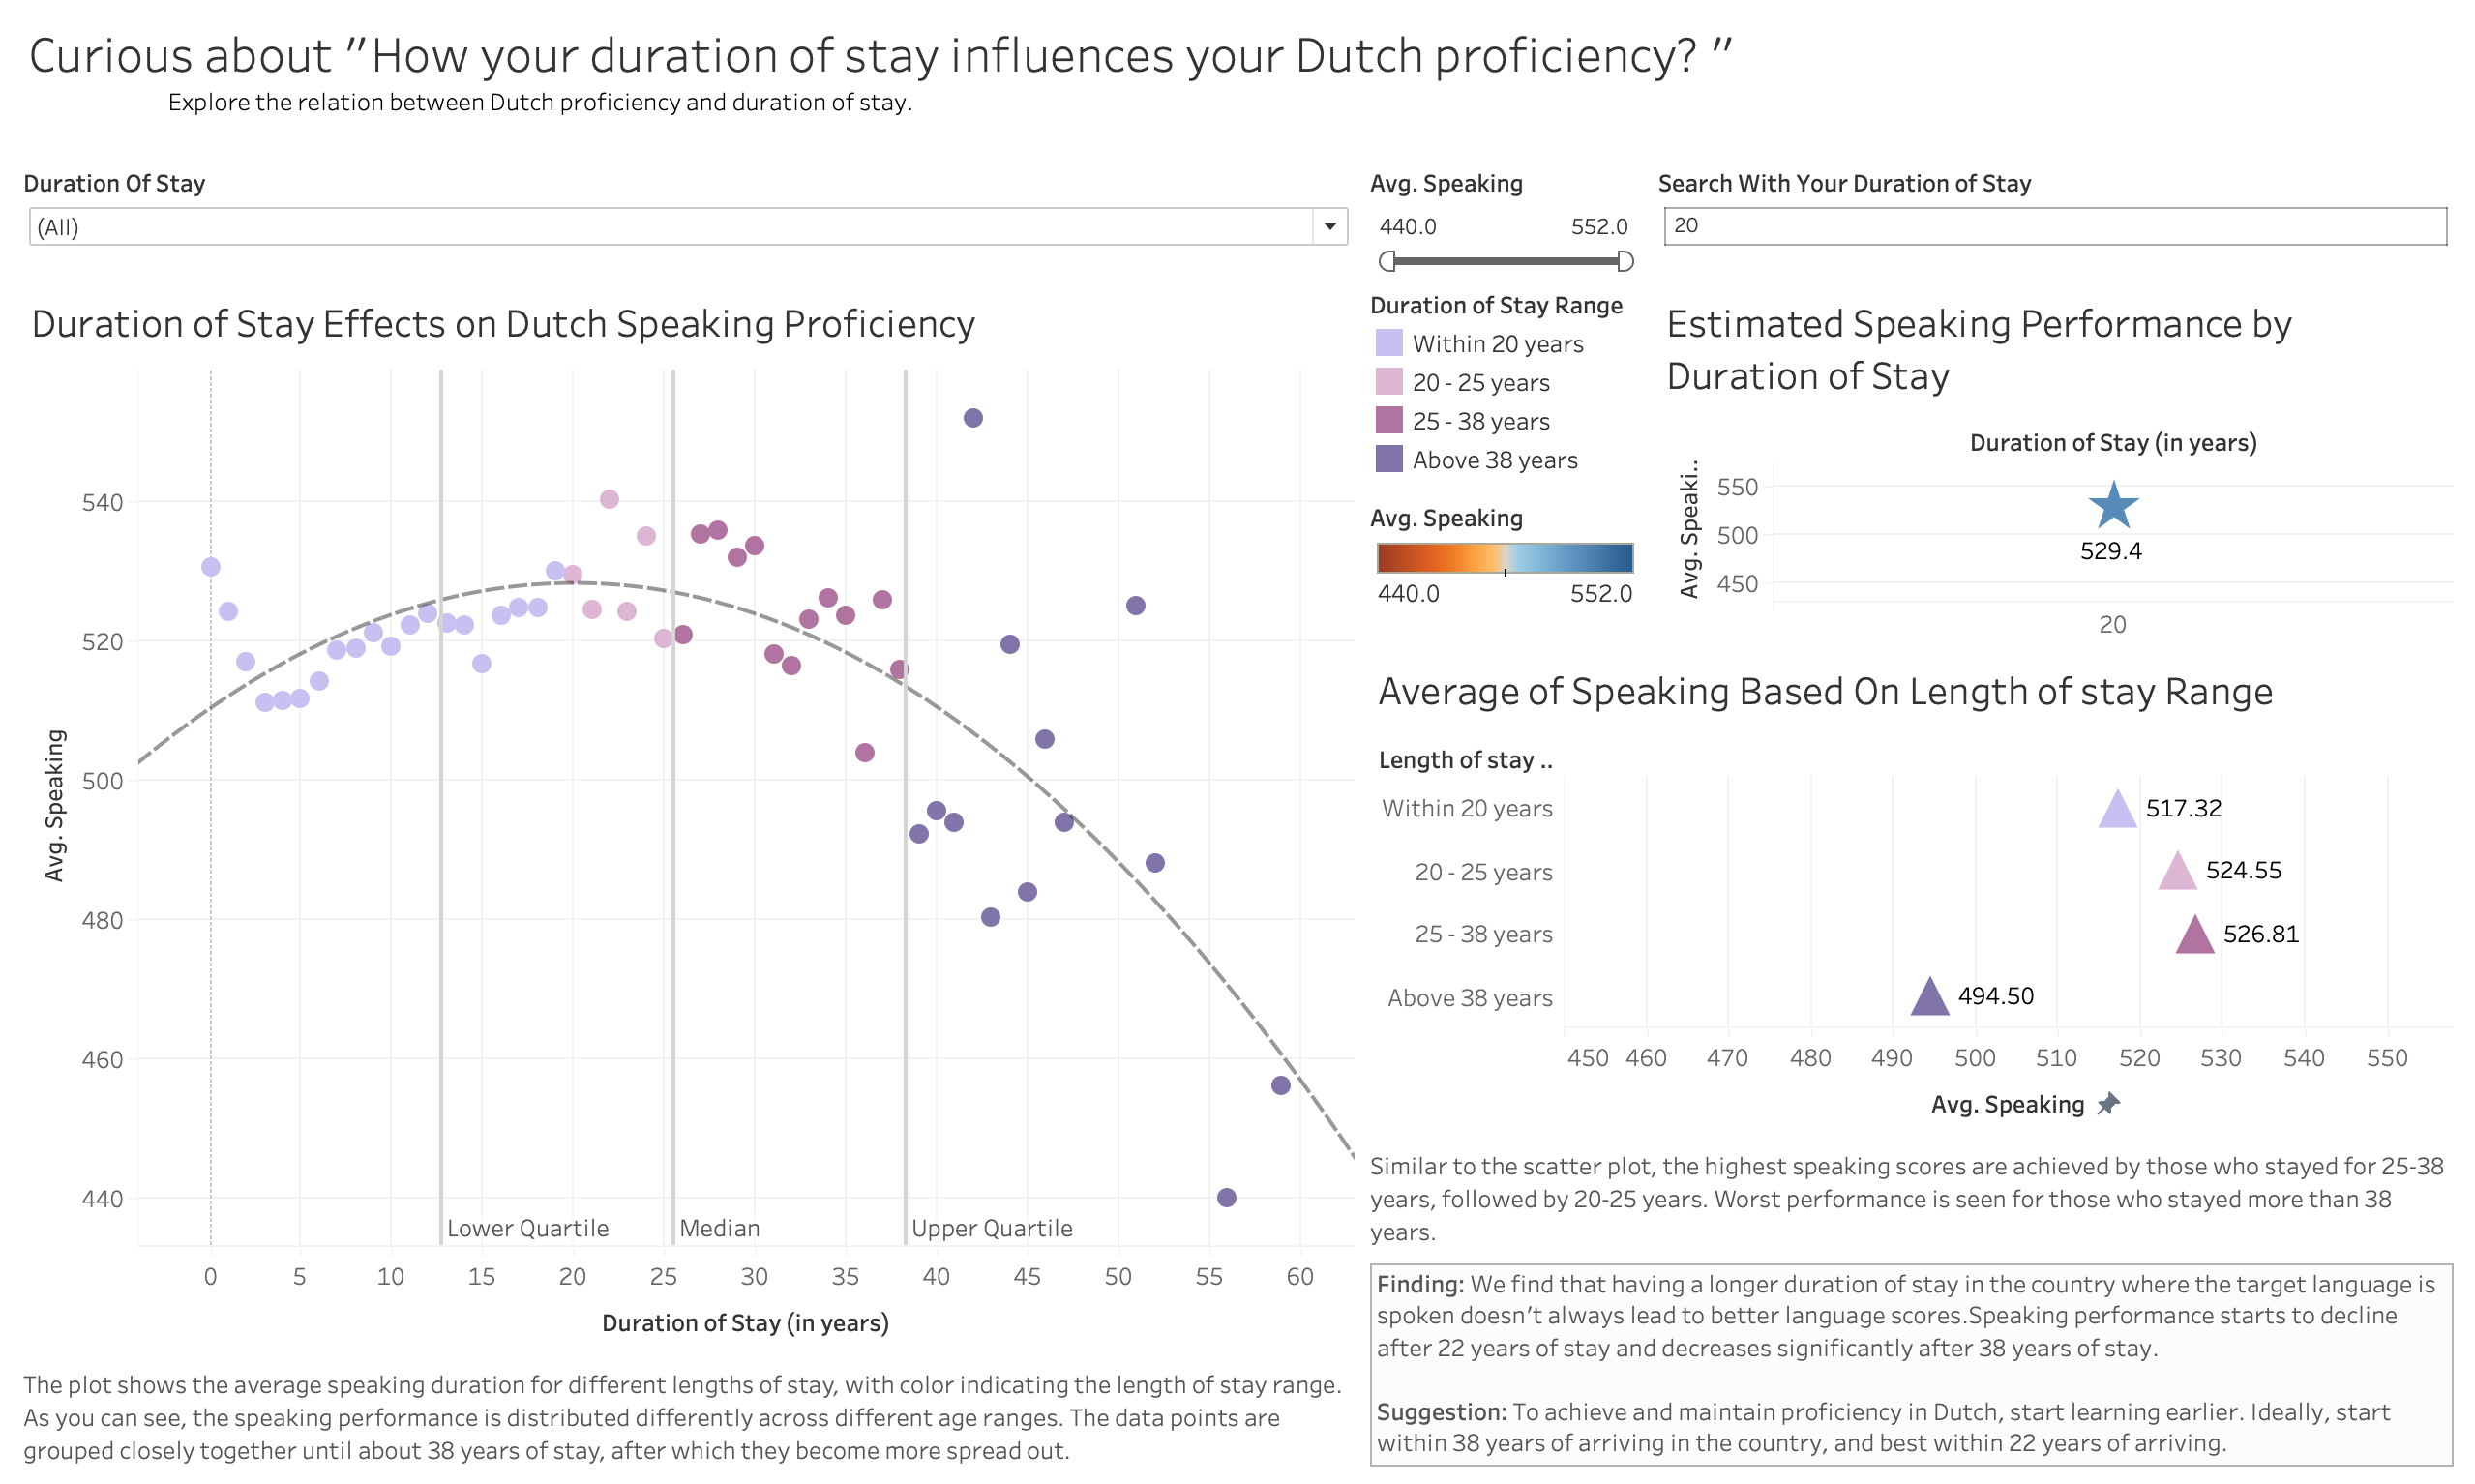

Layout of this report page (visuals, bound fields, positions):
{"tool":"tableau","page":{"name":"Dashboard 5","canvas":[1000,1000],"units":"permille","ordinal":4},"visuals":[{"type":"text","box":[6.2,10.4,987.5,95.8]},{"type":"parameter","param":"[Parameters].[Age-Range1 (copy)_2114158585074184193 3]","box":[6.2,106.2,544,81.8]},{"type":"filter","title":"duration","param":"[federated.1vhxzma1vfckmp1bi80181q941ae (copy 5)].[avg:Speaking:qk]","box":[550.3,106.2,116.3,81.8]},{"type":"parameter","param":"[Parameters].[Parameter 1 1 1]","box":[666.6,106.2,327.2,81.8]},{"type":"worksheet","title":"duration","mark":"Circle","rows":["Speaking"],"cols":["LoR"],"box":[6.2,188,544,801.6]},{"type":"legend","title":"duration","param":"[federated.1vhxzma1vfckmp1bi80181q941ae (copy 5)].[none:Calculation_475693074339","box":[550.3,188,116.3,143.1]},{"type":"worksheet","title":"LoR Search","mark":"Shape","rows":["Speaking"],"cols":["LoR"],"box":[666.6,188,327.2,247.5]},{"type":"legend","title":"LoR Search","param":"[federated.0nq162a0azgo201e57eep1p0yfa0 (copy 7)].[avg:Speaking:qk]","box":[550.3,331.1,116.3,104.4]},{"type":"worksheet","title":"avg duration","mark":"Shape","rows":["Calculation_47569307433902081"],"cols":["Speaking"],"box":[550.3,435.5,443.5,407.4]},{"type":"text","box":[550.3,842.9,443.5,146.8]}]}

Visuals, with their boxes on the dashboard's canvas, which has no fixed pixel size, in thousandths of its width and height (x1, y1, x2, y2). These are canvas units, not pixel positions in the 2475x1484 screenshot, which may show the page scaled, cropped or inside an application window:
text: 6/10/994/106
parameter: 6/106/550/188
"duration" filter: 550/106/667/188
parameter: 667/106/994/188
"duration" worksheet (Circle marks): 6/188/550/990
"duration" legend: 550/188/667/331
"LoR Search" worksheet (Shape marks): 667/188/994/436
"LoR Search" legend: 550/331/667/436
"avg duration" worksheet (Shape marks): 550/436/994/843
text: 550/843/994/990
